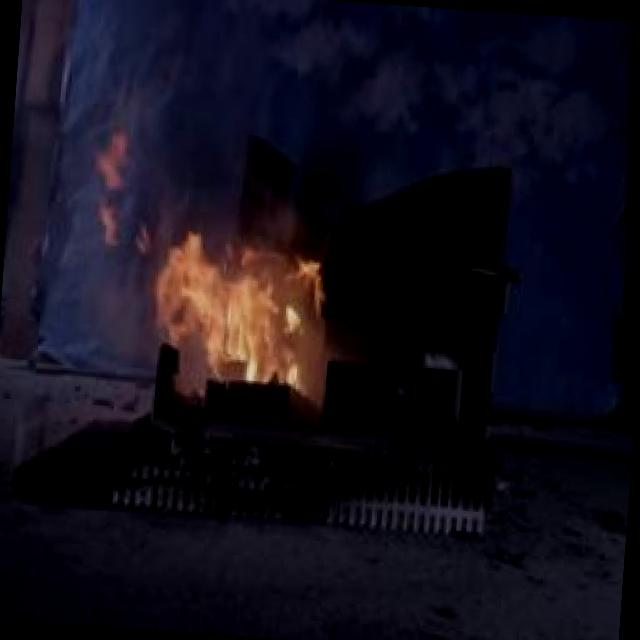fire: (128, 189, 342, 407)
